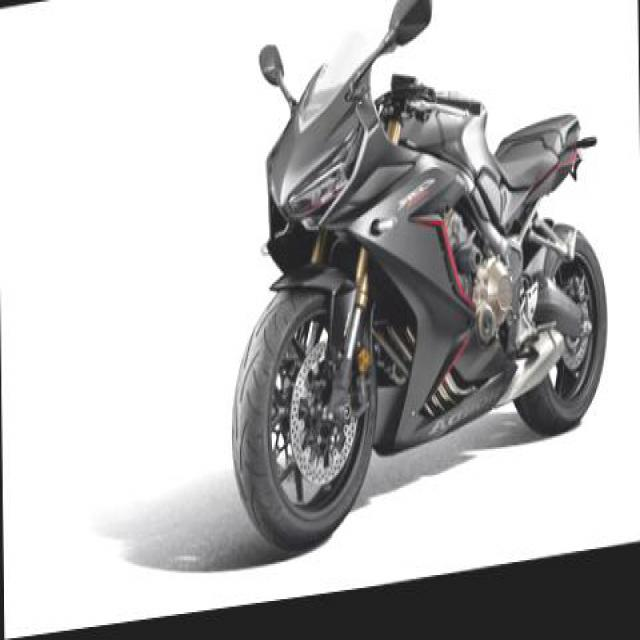CBR650R: (224, 1, 609, 574)
